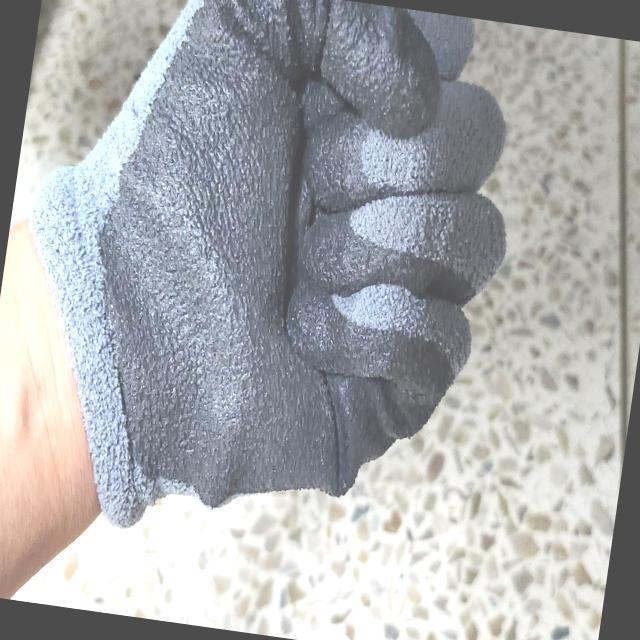Gloves: (51, 0, 505, 515)
